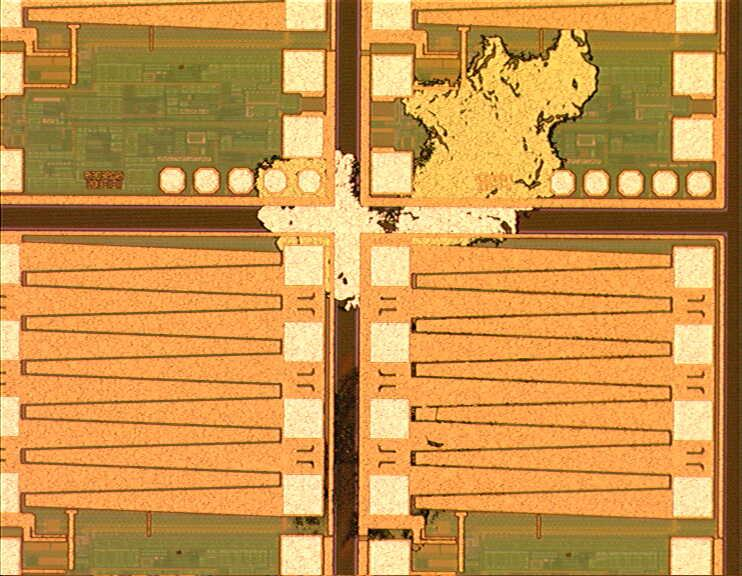BLOCK ETCH: (247, 17, 602, 316)
